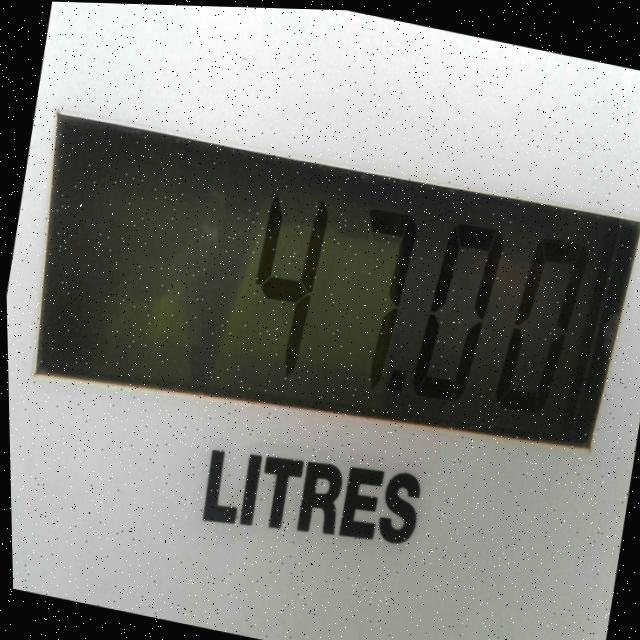.: (370, 333, 421, 423)
0: (393, 197, 515, 437), (483, 218, 610, 444)
4: (220, 173, 346, 393)
7: (316, 181, 426, 410)
